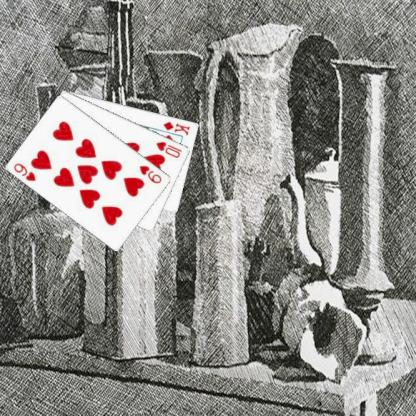10H: (153, 139, 183, 159)
9H: (137, 162, 163, 185), (12, 160, 38, 182)
KD: (161, 119, 191, 136)
